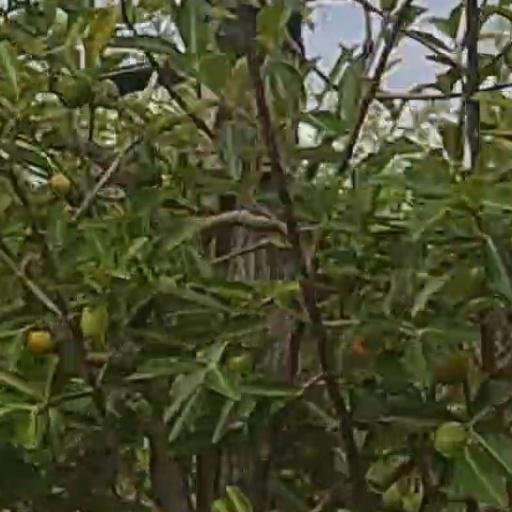acerola: (59, 76, 90, 107), (434, 422, 463, 455), (82, 310, 110, 335), (27, 331, 53, 350)
